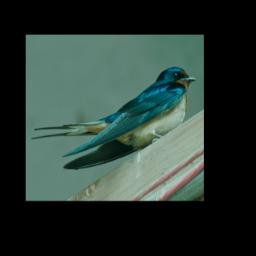Swallow: (31, 66, 197, 171)
